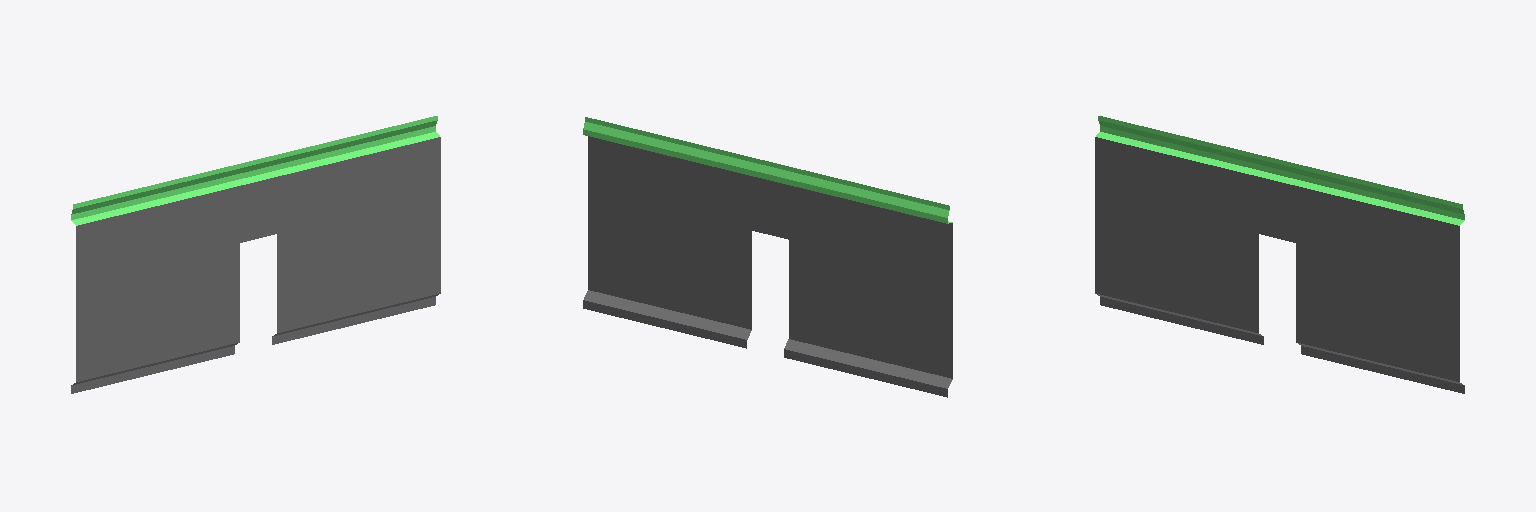
File: Wall_withDoorFrame.obj
3 views of the same model, side by side, from view 1: azimuth 30°, elevation 25°; view 2: azimuth 150°, elevation 25°; view 3: azimuth 330°, elevation 25° (orthographic).
Parts seen in each view (by area): view 1: Wall_withDoorFrame.obj; view 2: Wall_withDoorFrame.obj; view 3: Wall_withDoorFrame.obj.
Part boxes in pixels (x1,y1,x2,y2): Wall_withDoorFrame.obj: (71, 116, 440, 393); Wall_withDoorFrame.obj: (583, 117, 952, 397); Wall_withDoorFrame.obj: (1095, 116, 1464, 393).
Bounding box in the file's own units: 2000 × 1000 × 45.